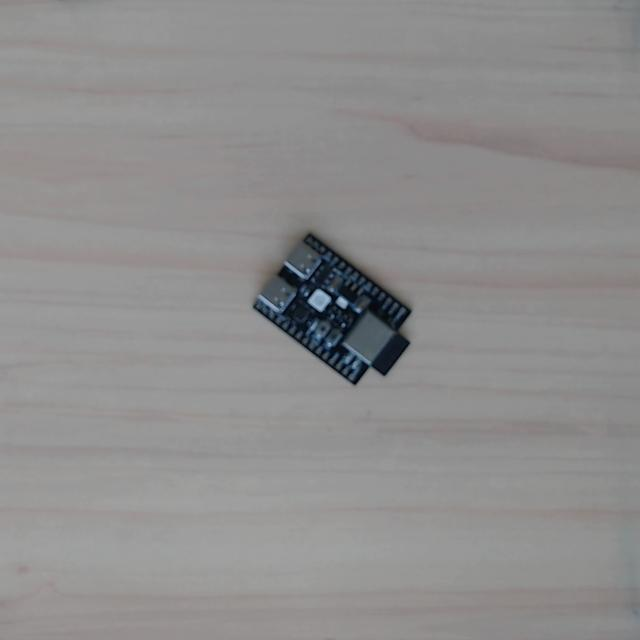ESP32C3-DevKit: (249, 230, 426, 397)
